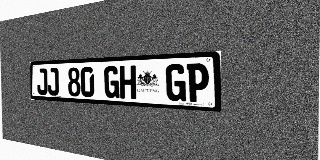0: (81, 67, 94, 97)
8: (68, 67, 81, 97)
G: (166, 64, 186, 102), (104, 66, 119, 98)
H: (120, 65, 136, 99)
J: (47, 68, 59, 96), (37, 68, 48, 95)
P: (187, 63, 209, 103)
